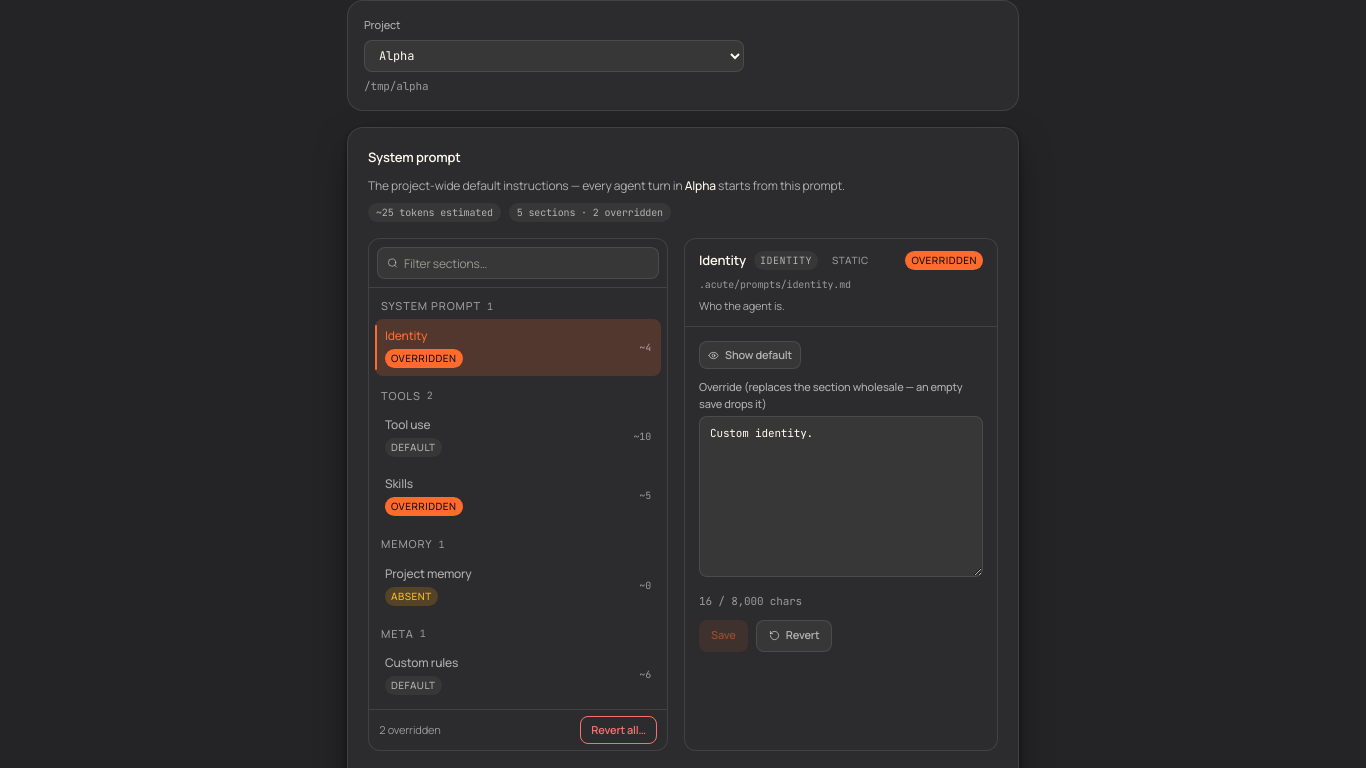
Test: PromptsTab (ROUND-99 R99-F — the project-wide system prompt redesign) › Revert all…: the ConfirmDialog enumerates every override, Confirm DELETEs each and invalidates, Cancel aborts
The image size is (1366, 768).
Expected: the text with test id "prompt-status-identity" is shown, [385,348,463,368]
Expected: the text with test id "prompt-overridden-count" reads "2 overridden", [379,722,440,738]
Click the button with test id "prompt-revert-all" at (619, 730), box [580,716,657,744]
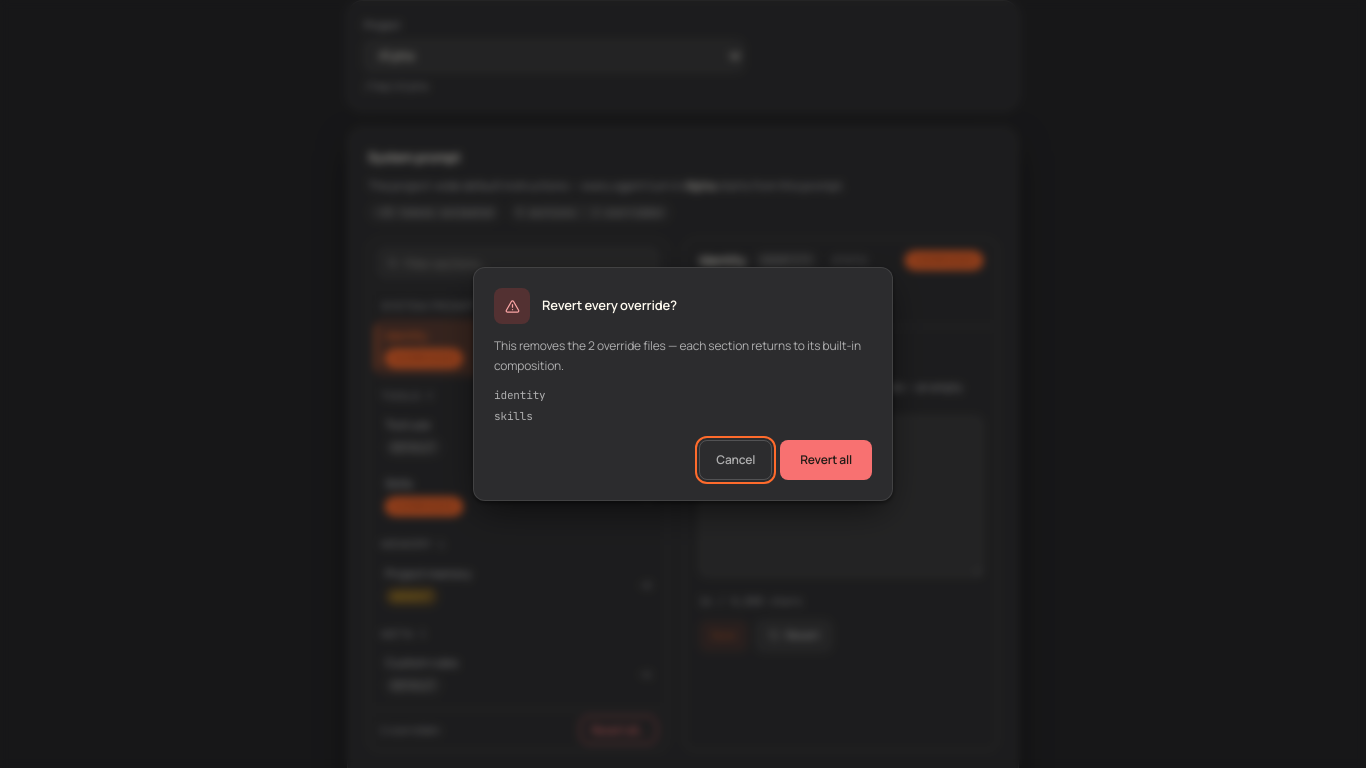
Expected: the element with test id "confirm-dialog" shows "removes the 2 override files", [494,337,861,374]
Expected: the list item with test id "prompt-revert-all-item-identity" reads "identity", [494,388,546,402]
Expected: the list item with test id "prompt-revert-all-item-skills" reads "skills", [494,408,533,422]
Cancel aborts — nothing deleted.
Click the button with test id "confirm-dialog-cancel" at (736, 460), box [699,440,772,480]
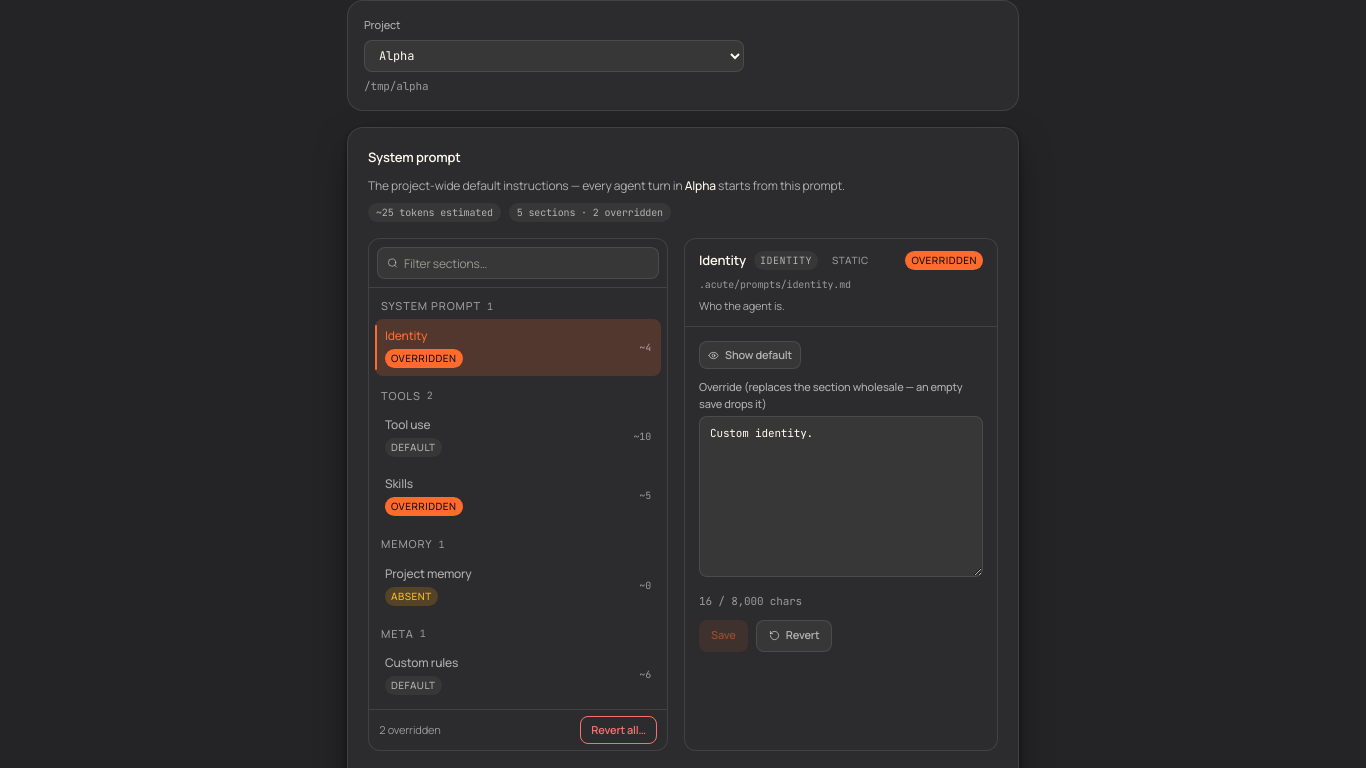
Expected: the element with test id "confirm-dialog" is gone
Click the button with test id "prompt-revert-all" at (619, 730), box [580,716,657,744]
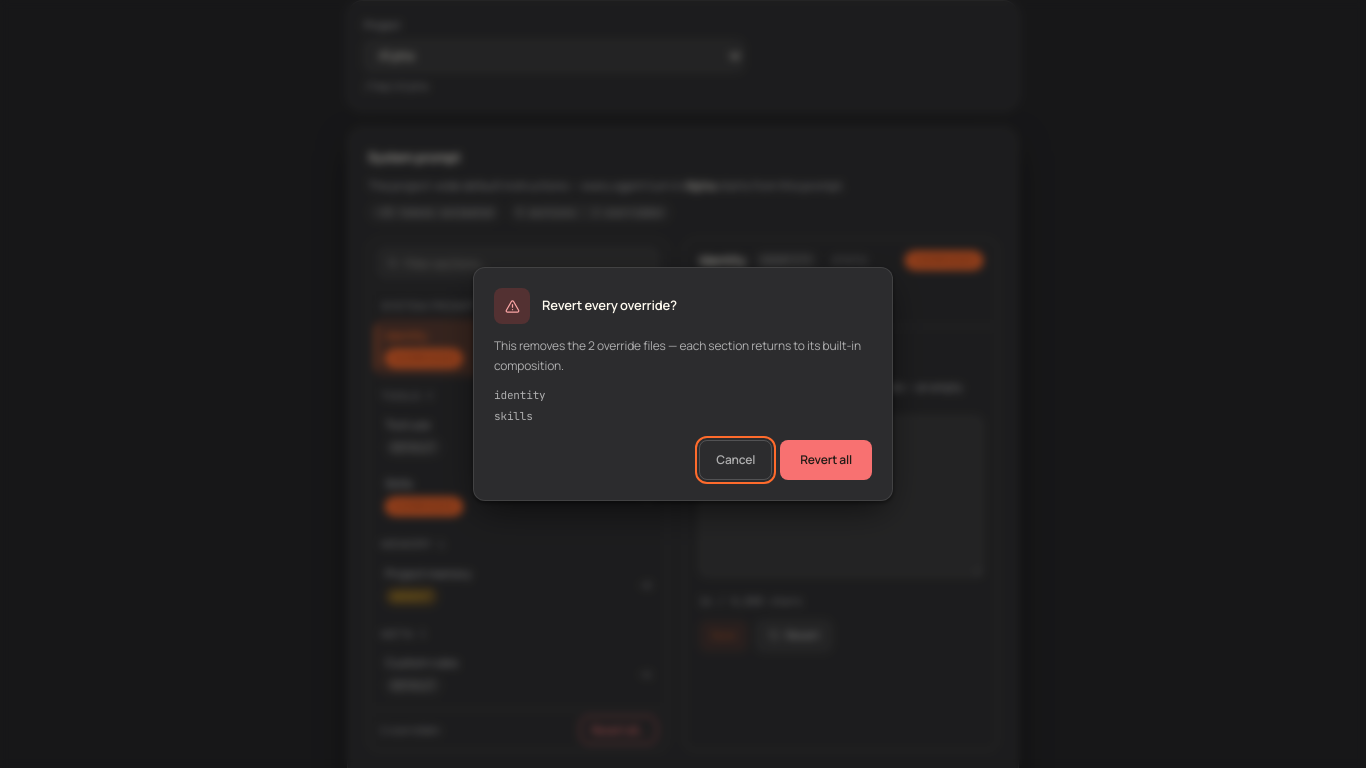
Click the button with test id "confirm-dialog-confirm" at (826, 460), box [780,440,872,480]
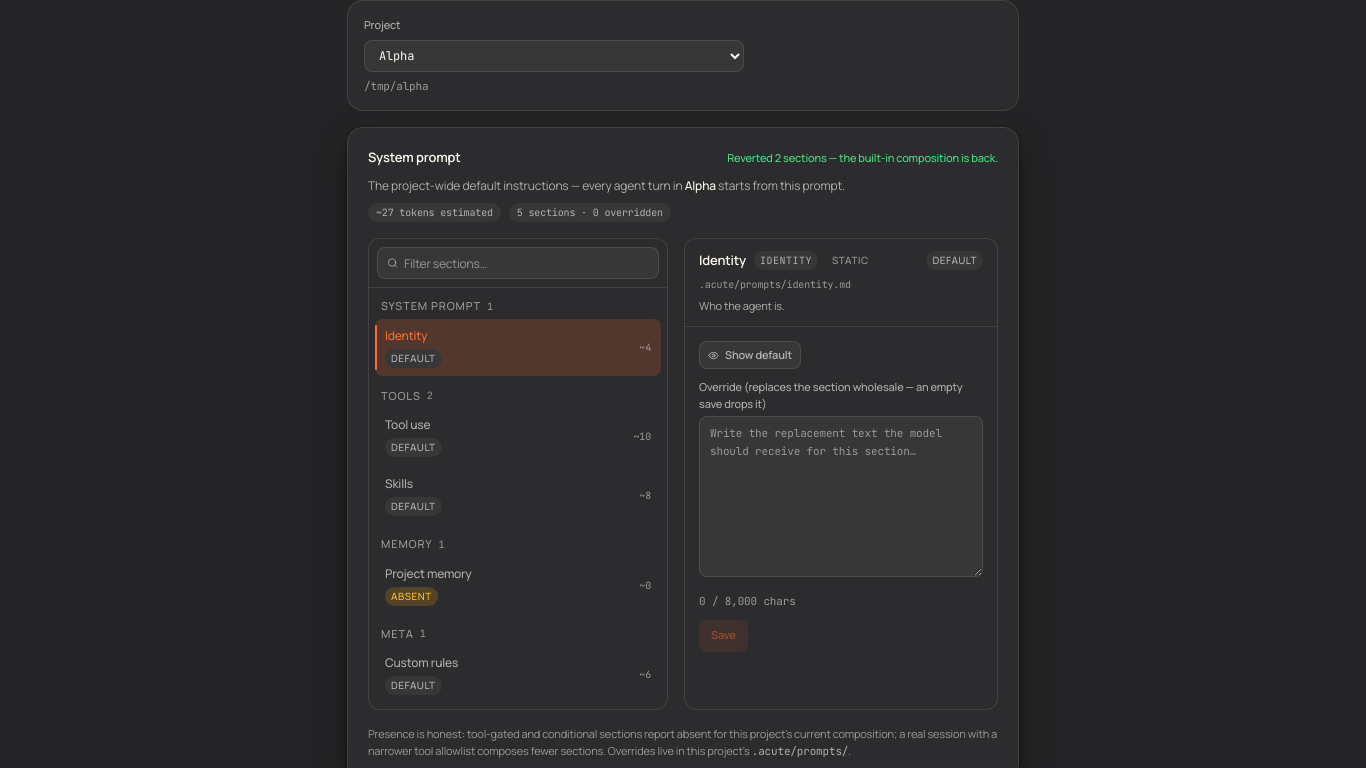
Expected: the text with test id "prompt-status-skills" reads "default", [391,499,436,513]
Expected: the text with test id "prompt-status-identity" reads "default", [391,350,436,364]
Expected: the button with test id "prompt-revert-all" is gone
